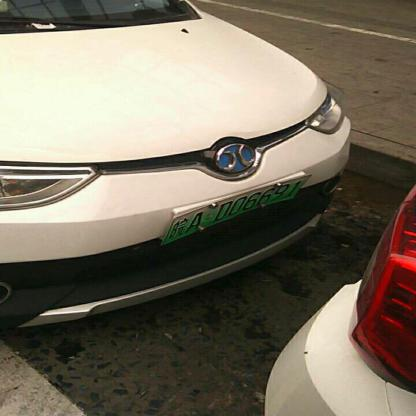lp: (163, 174, 308, 245)
